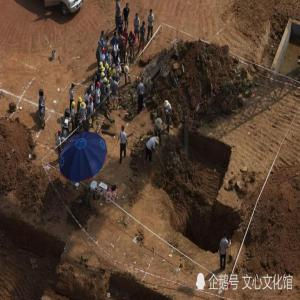blue: (98, 41, 102, 48)
none: (224, 231, 228, 239), (143, 21, 147, 28), (150, 9, 154, 16), (102, 31, 106, 38), (116, 40, 120, 46), (72, 84, 75, 91), (136, 13, 139, 20), (127, 3, 130, 10), (115, 32, 118, 38)
red: (122, 125, 126, 133), (59, 129, 63, 137), (91, 96, 95, 104), (97, 82, 101, 90), (138, 77, 142, 85), (102, 49, 106, 56)
yellow: (78, 97, 83, 105), (101, 73, 106, 81), (72, 102, 76, 110), (104, 78, 108, 86), (106, 64, 110, 72), (100, 62, 104, 69)
